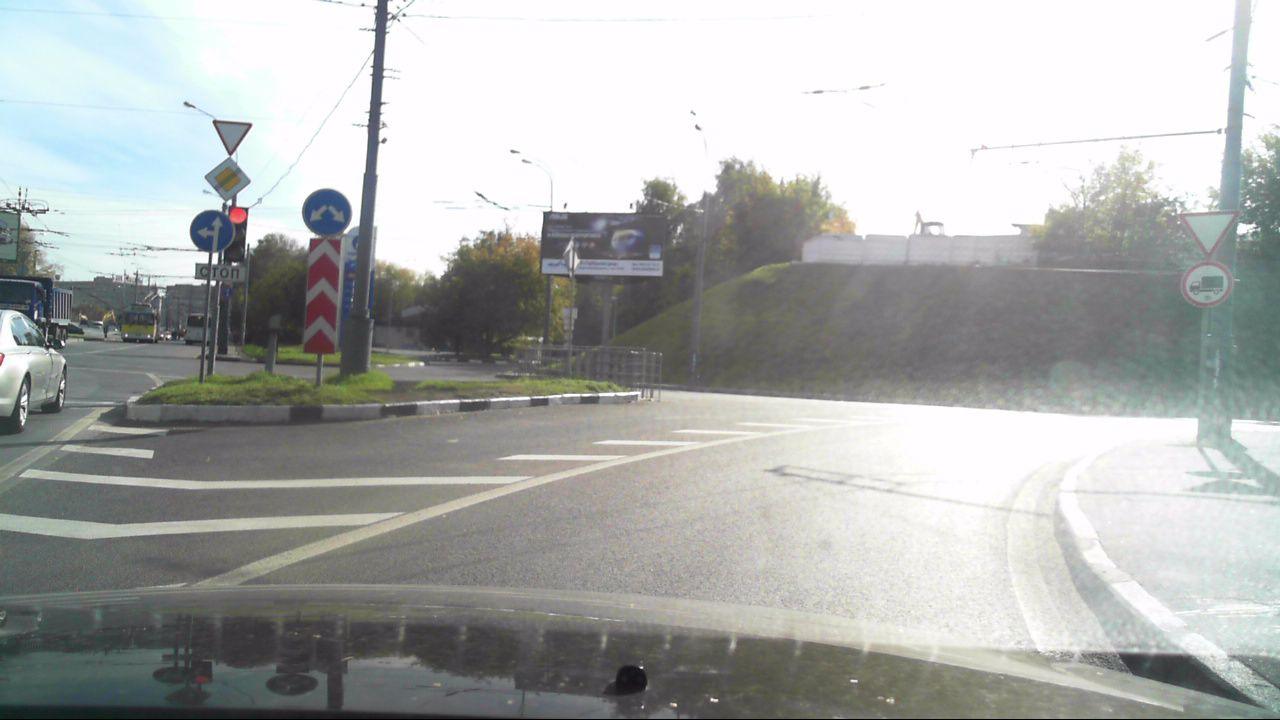main road: (200, 155, 251, 200)
